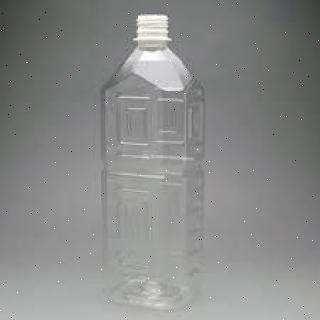Plastic-bottle: (99, 14, 210, 314)
